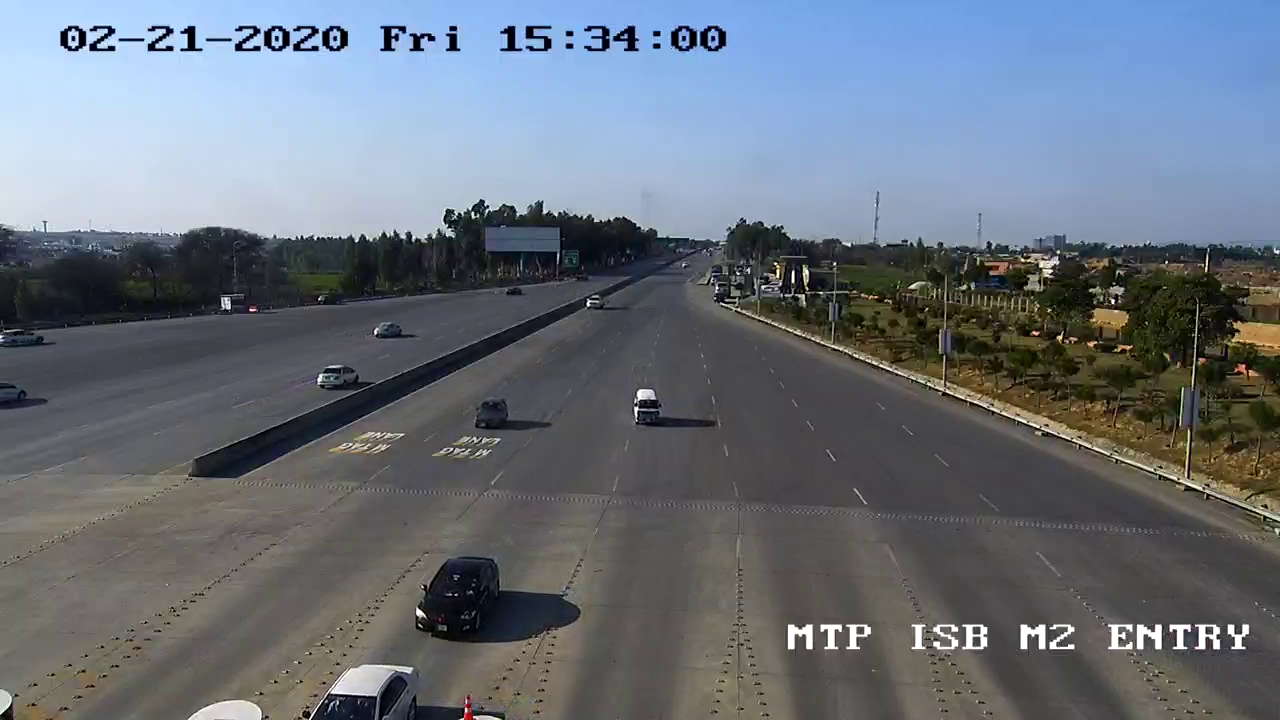f1: (413, 555, 499, 645), (460, 386, 525, 435), (622, 384, 677, 437)
